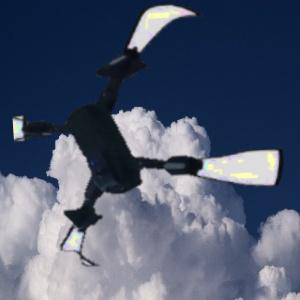drone: (15, 1, 286, 272)
